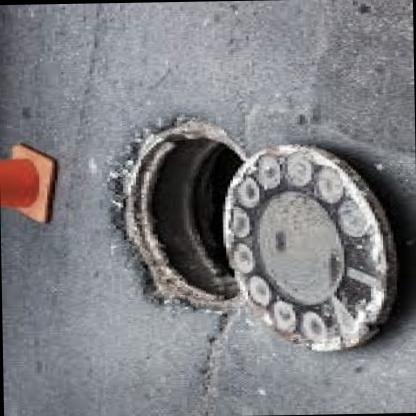manholes: (63, 102, 416, 370)
